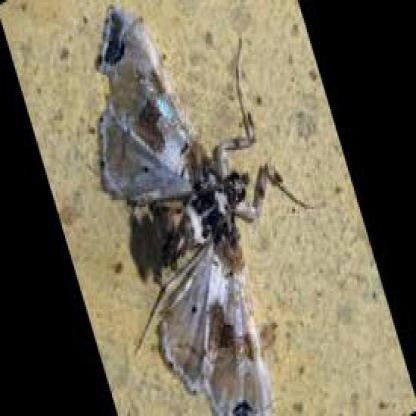leucinodes: (98, 8, 269, 414)
